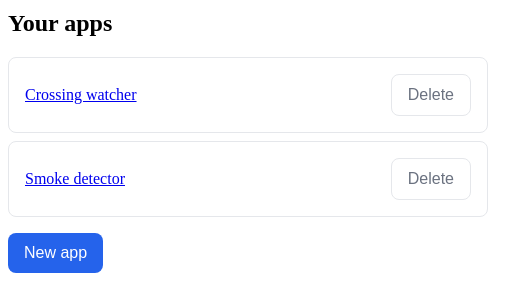
Test: AppListPage › confirms inline, supports cancellation, and removes only the deleted app
Click the button with aria-label "Delete Crossing watcher" at {"x": 431, "y": 95}, box x1=391 y1=74 x2=471 y2=116
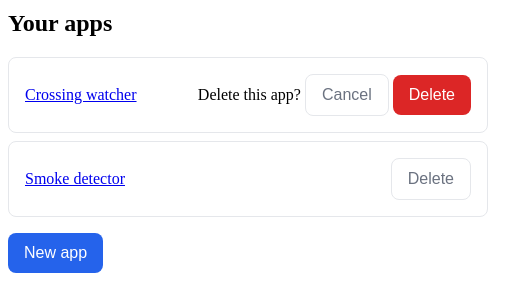
Click the button "Cancel" at {"x": 347, "y": 95}, box x1=305 y1=74 x2=389 y2=116
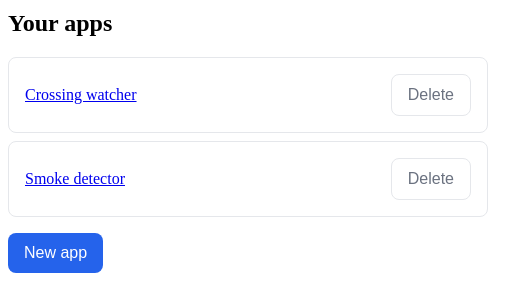
Now the text "Delete this app?" is gone
Click the button with aria-label "Delete Crossing watcher" at {"x": 431, "y": 95}, box x1=391 y1=74 x2=471 y2=116
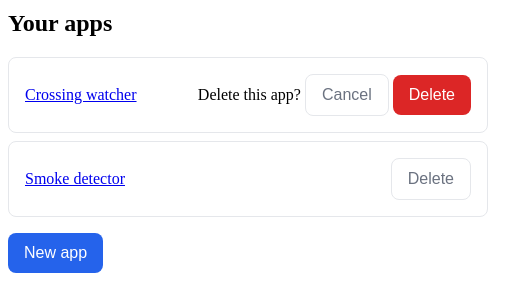
Click the button with aria-label "Confirm delete Crossing watcher" at {"x": 432, "y": 95}, box x1=393 y1=75 x2=471 y2=115
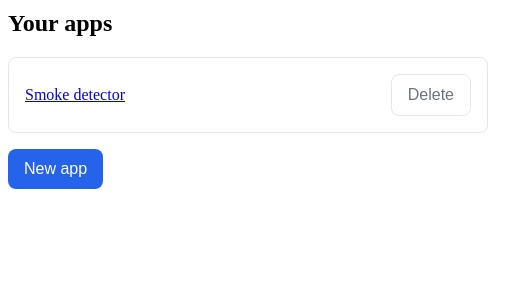
Expected: the link "Smoke detector" is shown, x1=25 y1=86 x2=125 y2=104
Now the link "Crossing watcher" is gone
